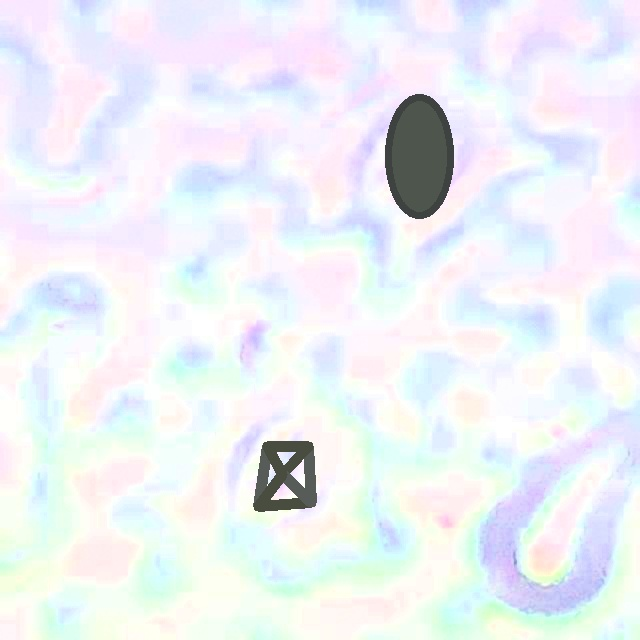open: (386, 94, 453, 219), (253, 442, 312, 507)
